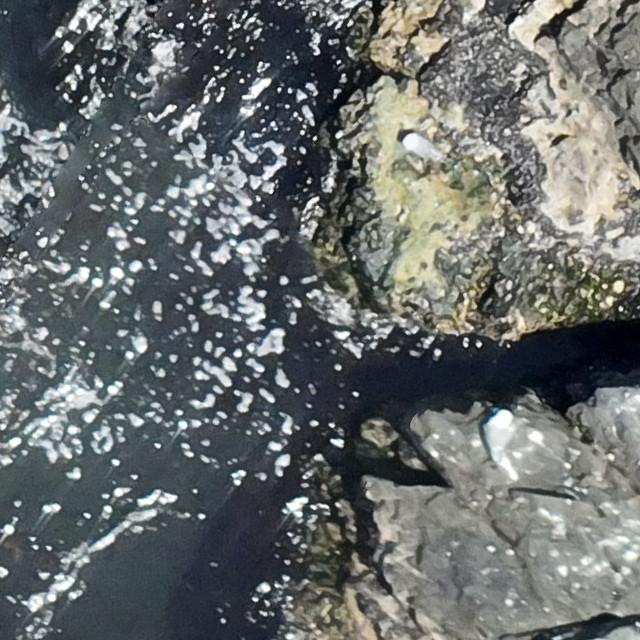umineko: (402, 132, 448, 161), (485, 410, 512, 458)
